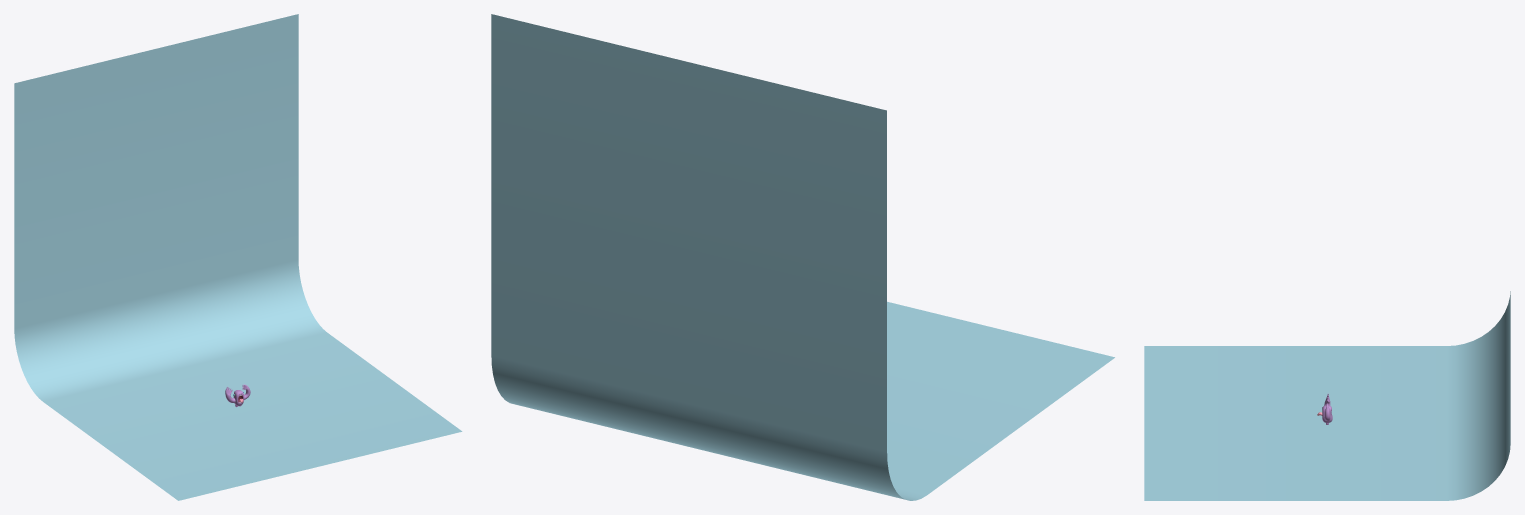
Rendered from char_3d_v1.glb.
3 views of the same model, side by side, from view 1: azimuth 30°, elevation 25°; view 2: azimuth 150°, elevation 25°; view 3: azimuth 270°, elevation 25° (orthographic). The views are drawn at different scales.
Visible parts, largest first — view 1: Plane; view 2: Plane; view 3: Plane.
Boxes of the visible parts, x1,y1,x2,y2 form: Plane: [14, 14, 462, 500]; Plane: [491, 14, 1114, 500]; Plane: [1144, 291, 1510, 500].
Size of the model in its own units: 56.51 by 56.53 by 56.51.
